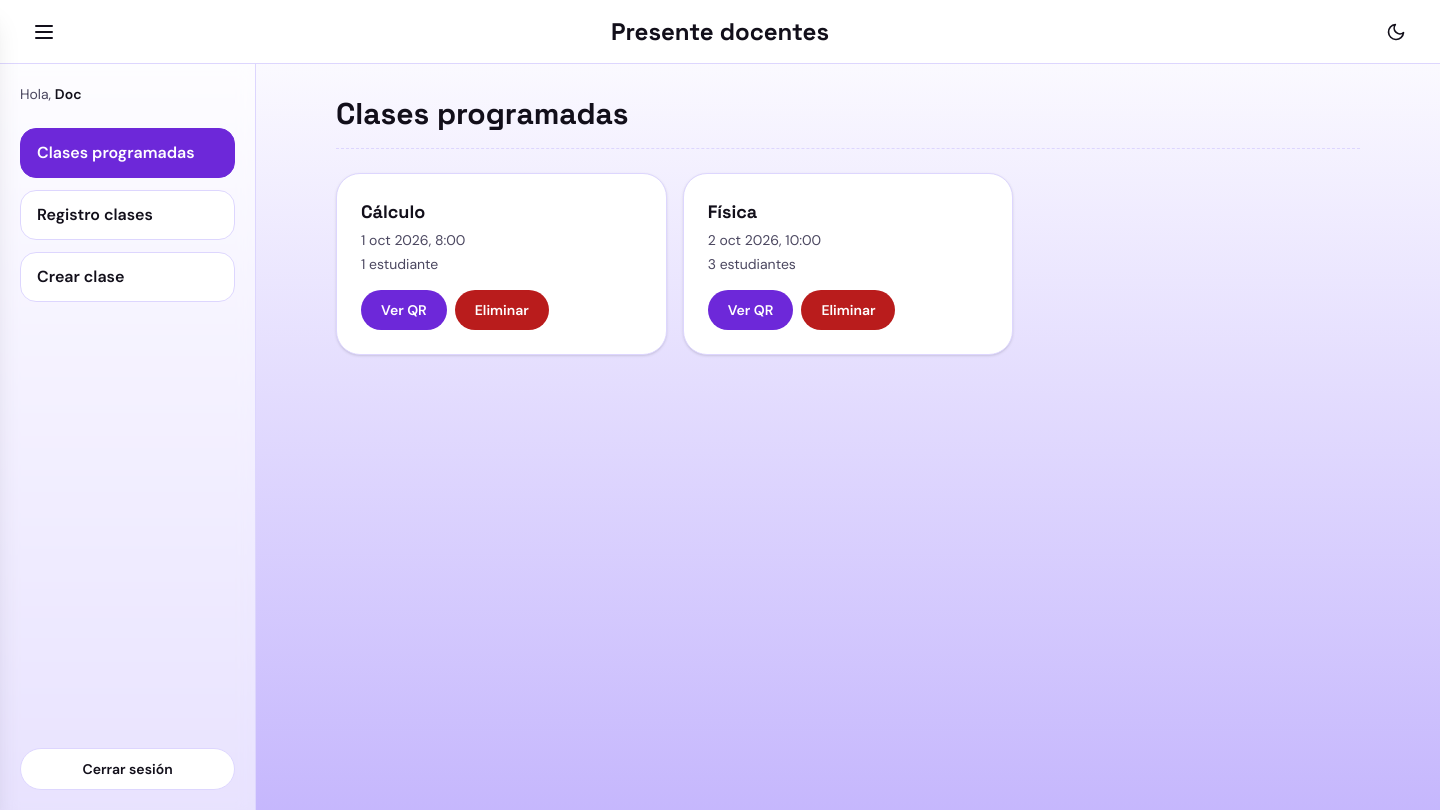
Scenario: PanelDocente › elimina una clase cuando el servidor lo confirma
Click the button "Eliminar" below "1 estudiante" at {"x": 502, "y": 310}, box [455,290,549,330]
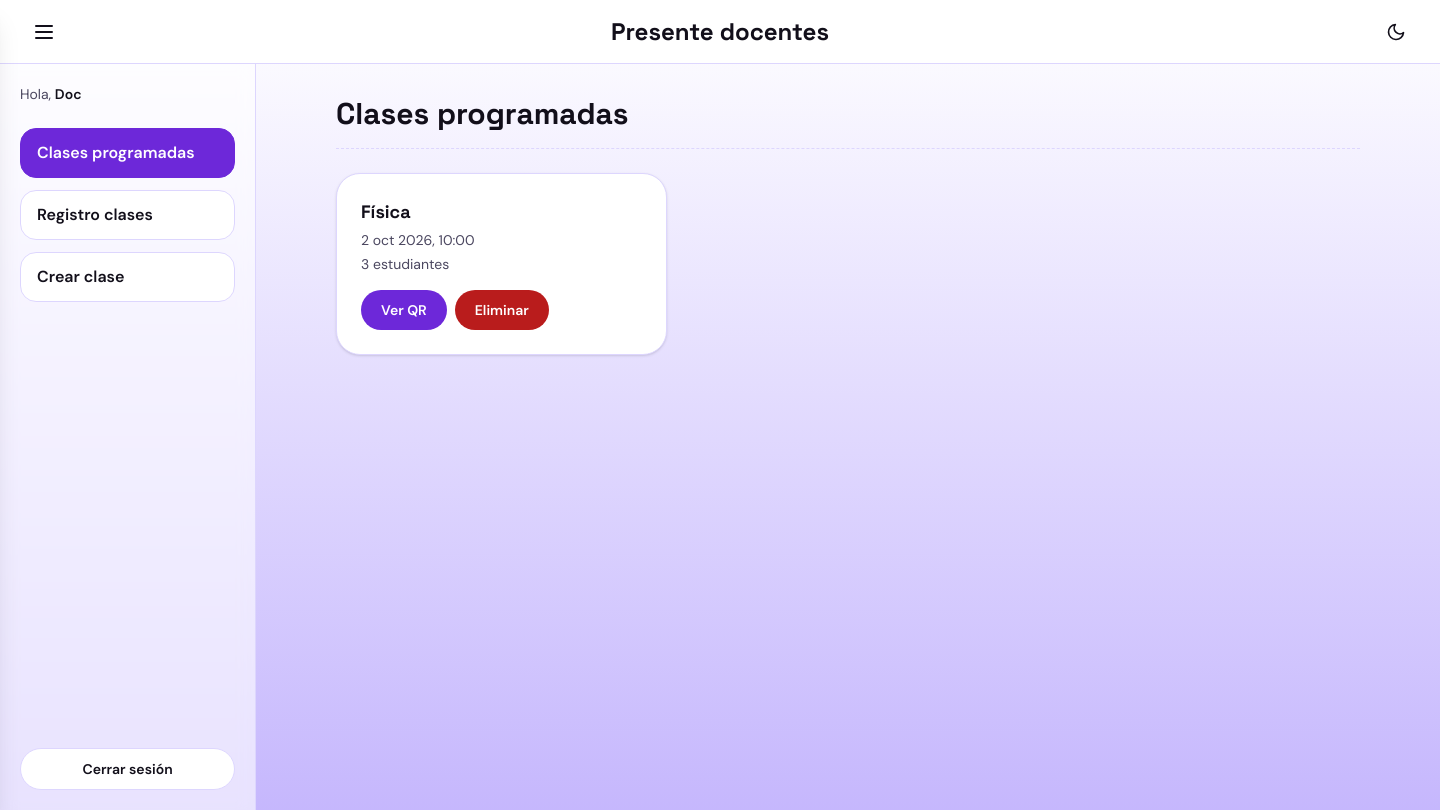
Expected: the heading "Cálculo" is gone
